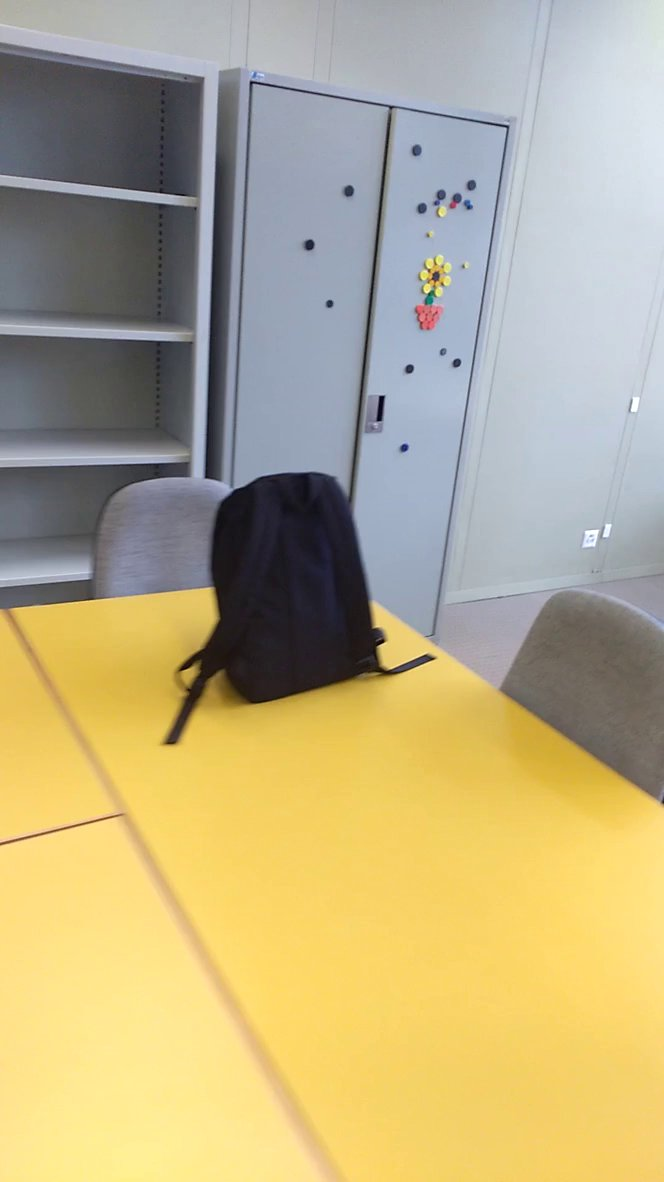bag: (162, 467, 448, 750)
chair: (494, 579, 664, 821), (77, 452, 251, 617)
